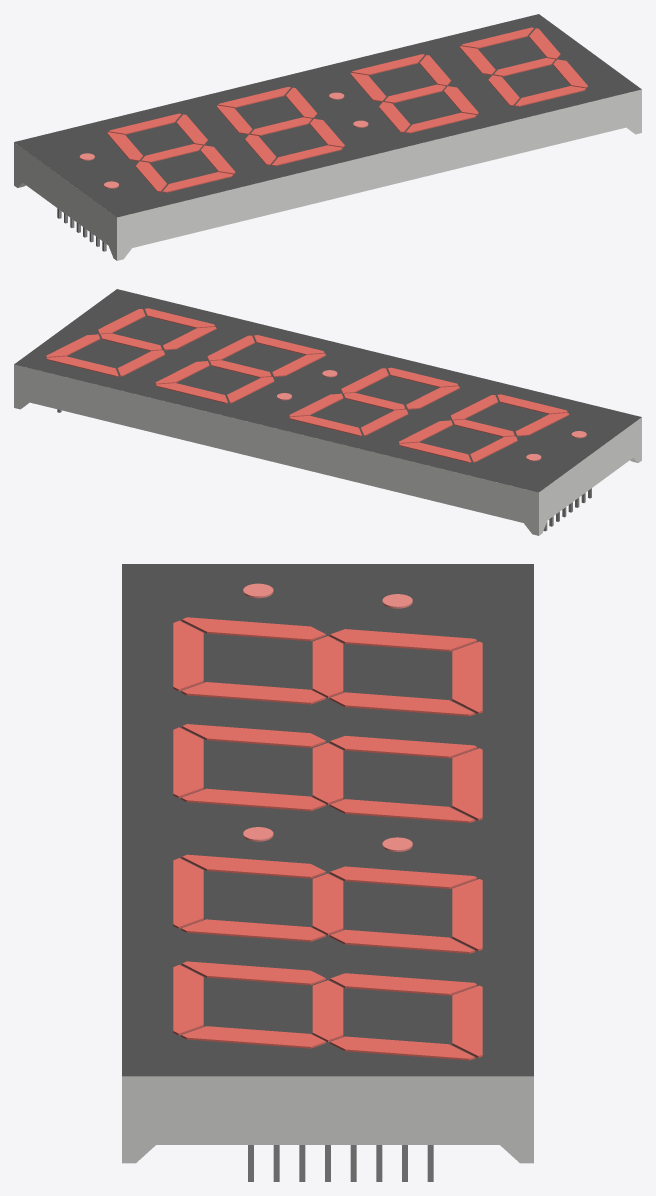
Rendered from ada-1264.glb.
3 renders of one model, top to bottom at view 1: azimuth 30°, elevation 25°; view 2: azimuth 150°, elevation 25°; view 3: azimuth 270°, elevation 25°, orthographic. The views are drawn at different scales.
Parts seen in each view (by area): view 1: 0.08333333333333333_0.08333333333333333_0.08333333333333333_, 0.9166666666666666_0.9166666666666666_0.9166666666666666_0.8, 0.9166666666666666_0.16666666666666666_0.16666666666666666_0, 1_0.3333333333333333_0.25_0; view 2: 0.08333333333333333_0.08333333333333333_0.08333333333333333_, 0.9166666666666666_0.9166666666666666_0.9166666666666666_0.8, 0.9166666666666666_0.16666666666666666_0.16666666666666666_0, 1_0.3333333333333333_0.25_0; view 3: 0.08333333333333333_0.08333333333333333_0.08333333333333333_, 0.9166666666666666_0.16666666666666666_0.16666666666666666_0, 0.9166666666666666_0.9166666666666666_0.9166666666666666_0.8, 0.3333333333333333_0.3333333333333333_0.3333333333333333_0, 1_0.3333333333333333_0.25_0.
Boxes of the visible parts, x1,y1,x2,y2 form: 0.08333333333333333_0.08333333333333333_0.08333333333333333_: (14, 14, 641, 217); 0.9166666666666666_0.9166666666666666_0.9166666666666666_0.8: (14, 89, 641, 260); 0.9166666666666666_0.16666666666666666_0.16666666666666666_0: (107, 27, 587, 192); 1_0.3333333333333333_0.25_0: (79, 92, 368, 188); 0.08333333333333333_0.08333333333333333_0.08333333333333333_: (14, 289, 641, 492); 0.9166666666666666_0.9166666666666666_0.9166666666666666_0.8: (14, 364, 641, 535); 0.9166666666666666_0.16666666666666666_0.16666666666666666_0: (46, 308, 569, 462); 1_0.3333333333333333_0.25_0: (277, 370, 586, 460); 0.08333333333333333_0.08333333333333333_0.08333333333333333_: (122, 564, 533, 1076); 0.9166666666666666_0.16666666666666666_0.16666666666666666_0: (173, 617, 482, 1060); 0.9166666666666666_0.9166666666666666_0.9166666666666666_0.8: (122, 1076, 533, 1163); 0.3333333333333333_0.3333333333333333_0.3333333333333333_0: (248, 1145, 433, 1181); 1_0.3333333333333333_0.25_0: (243, 583, 412, 851).
Bounding box in the file's own units: 12 × 1.37 × 4.08.
